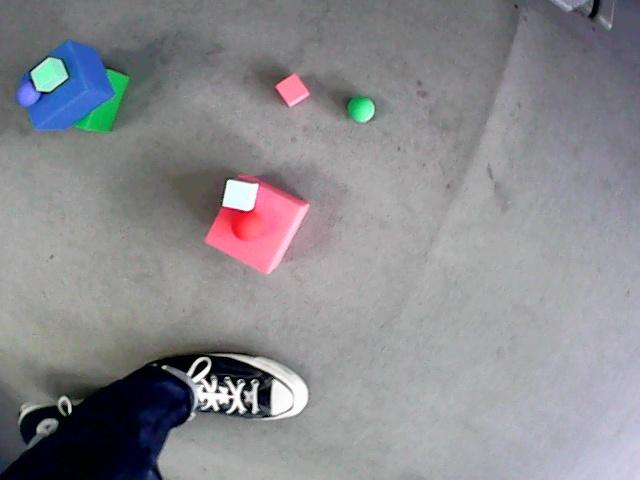blue_block: (27, 40, 114, 129)
red_block: (205, 176, 308, 273), (275, 74, 309, 106)
